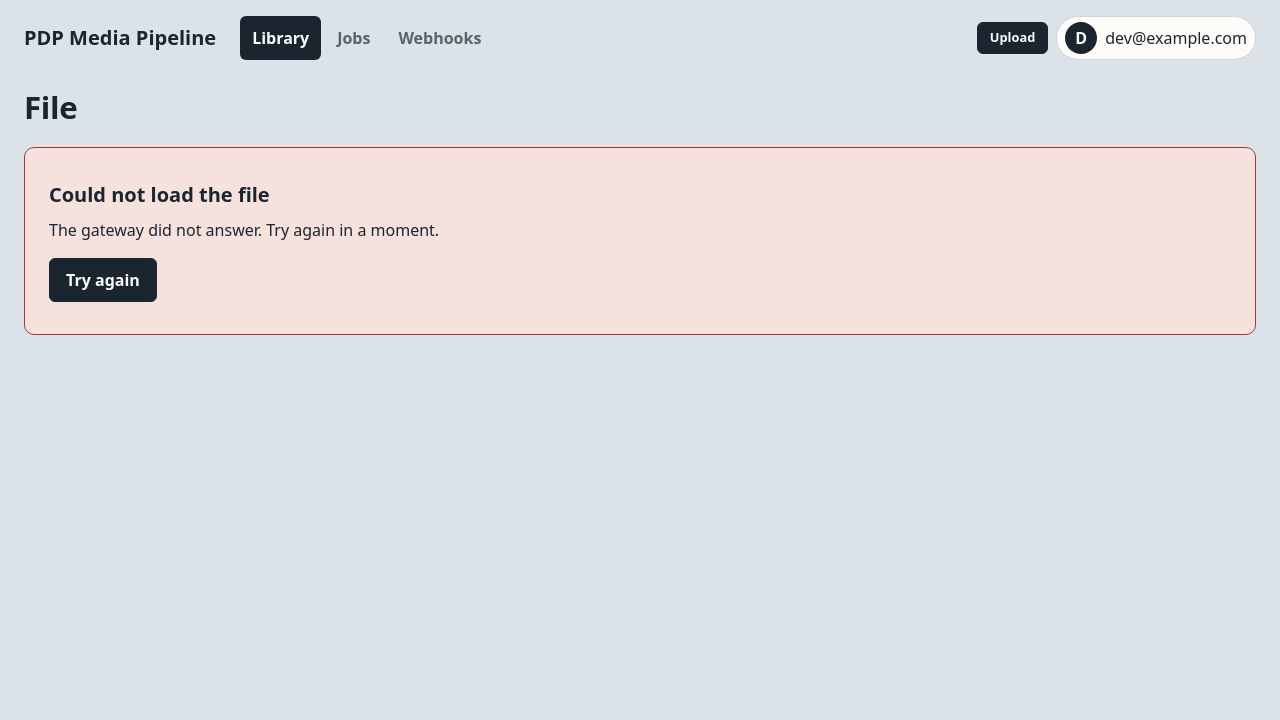
Test: file page › offers a retry when the gateway fails
The width and height of the screenshot is (1280, 720).
Expected: the heading "Could not load the file" is shown, [49,180,270,210]
Expected: the heading "File" is shown, [24,86,77,128]
Click the button "Try again" at (103, 280), box [49,258,157,302]
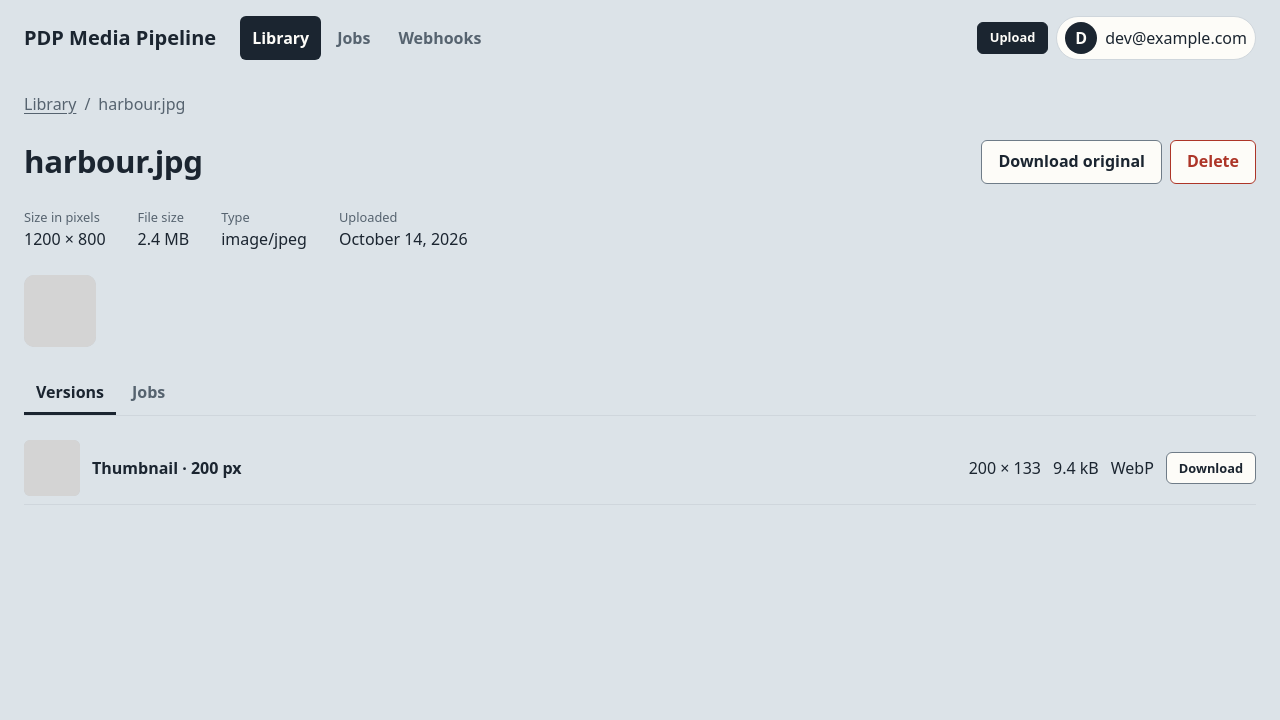
Expected: the heading "harbour.jpg" is shown, [24,146,203,178]
